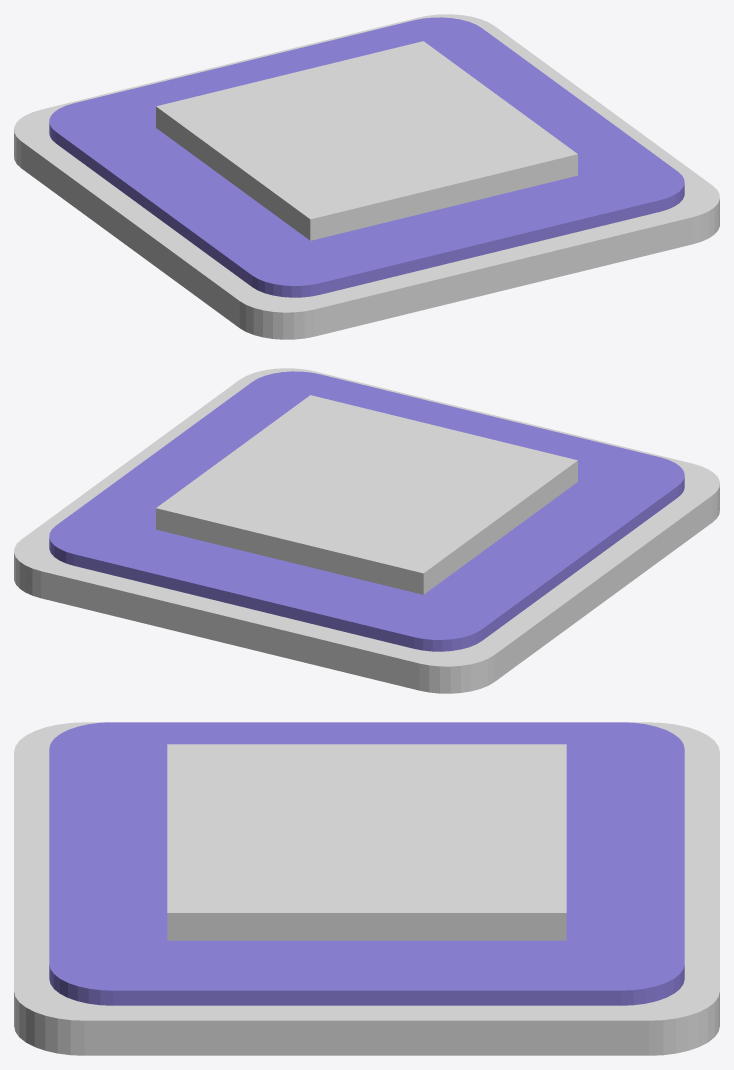
Rendered from CubePad.fbx.
3 views of the same model, one above another, from view 1: azimuth 30°, elevation 25°; view 2: azimuth 150°, elevation 25°; view 3: azimuth 270°, elevation 25° (orthographic). The views are drawn at different scales.
Visible parts, largest first — view 1: Cube.002, Cube, Cube.001; view 2: Cube.002, Cube, Cube.001; view 3: Cube.002, Cube, Cube.001.
Boxes of the visible parts, x1,y1,x2,y2 form: Cube.002: (49, 17, 684, 297); Cube: (156, 41, 577, 240); Cube.001: (14, 14, 719, 339); Cube.002: (49, 371, 684, 651); Cube: (156, 395, 577, 594); Cube.001: (14, 368, 719, 693); Cube.002: (49, 722, 684, 1005); Cube: (167, 744, 566, 940); Cube.001: (14, 722, 719, 1055).
Bounding box in the file's own units: 200 × 24.37 × 200.
